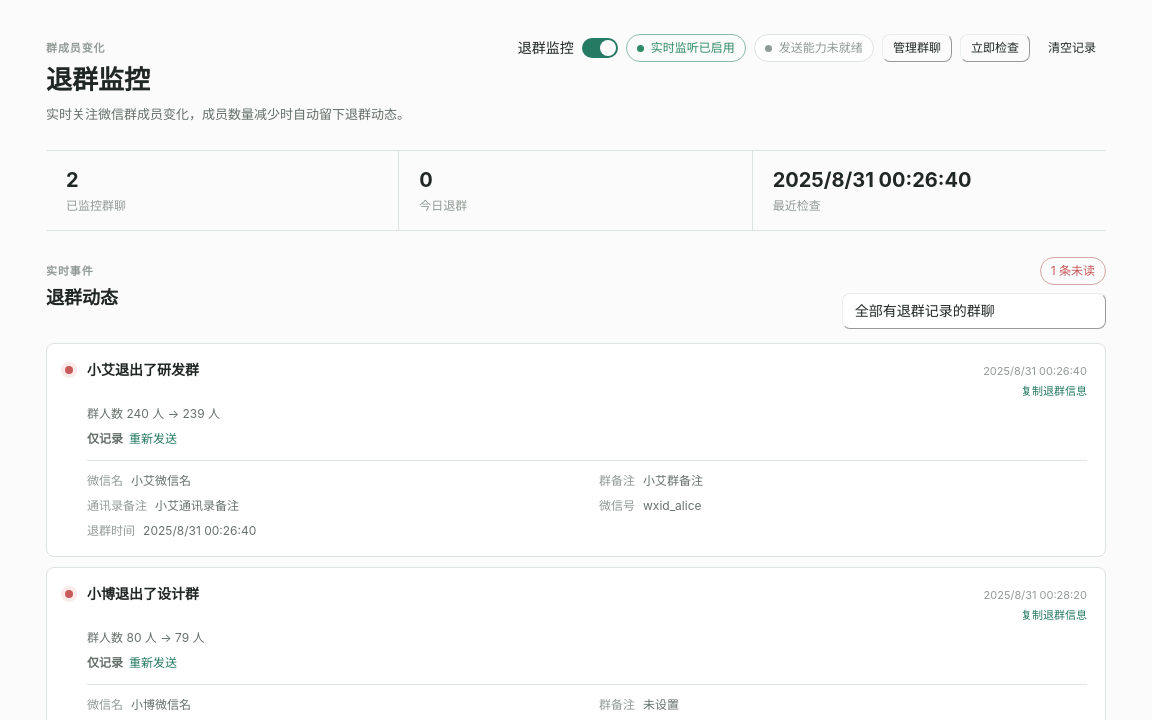
Test: GroupExitMonitorWorkspace › shows the notification template from the management page header
The image size is (1152, 720).
What coordinates should you click on to do the following:
click the button "管理群聊"
I would click on:
 (917, 48)
Its box is [882,34,952,62].
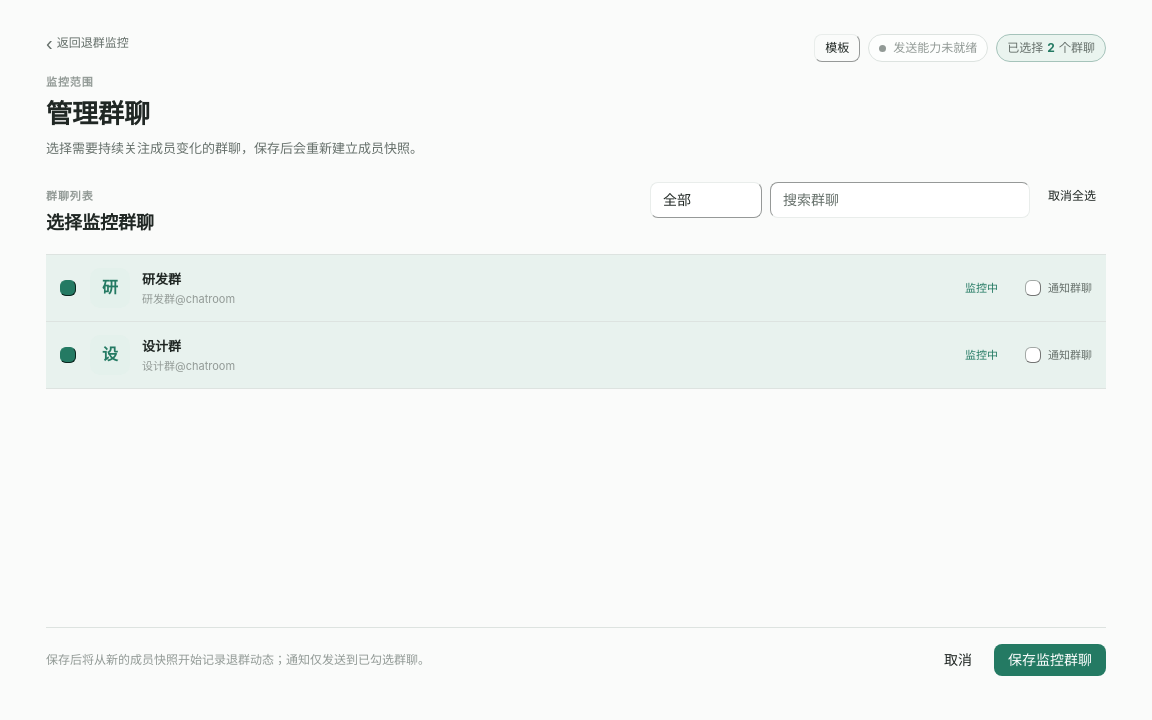
What coordinates should you click on to do the following:
click the button named "查看退群监测模板"
I would click on:
 (837, 48)
Its box is [814,34,860,62].
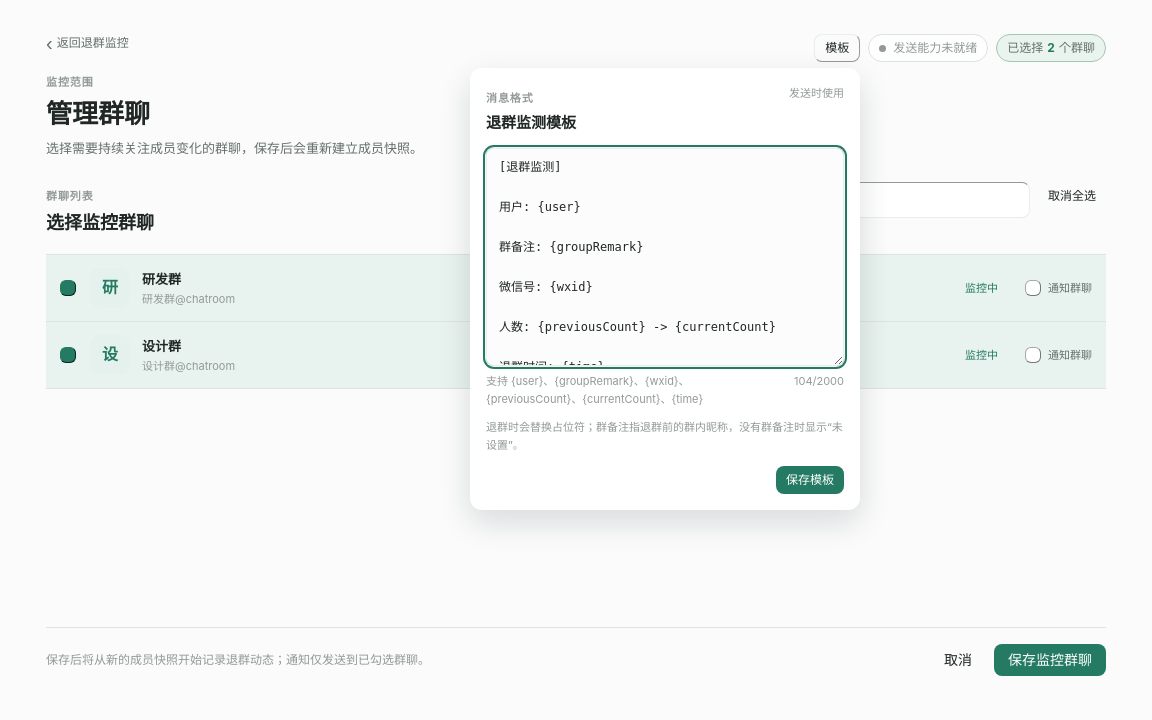
expect the heading "退群监测模板" is shown: met, box [486,112,576,134]
